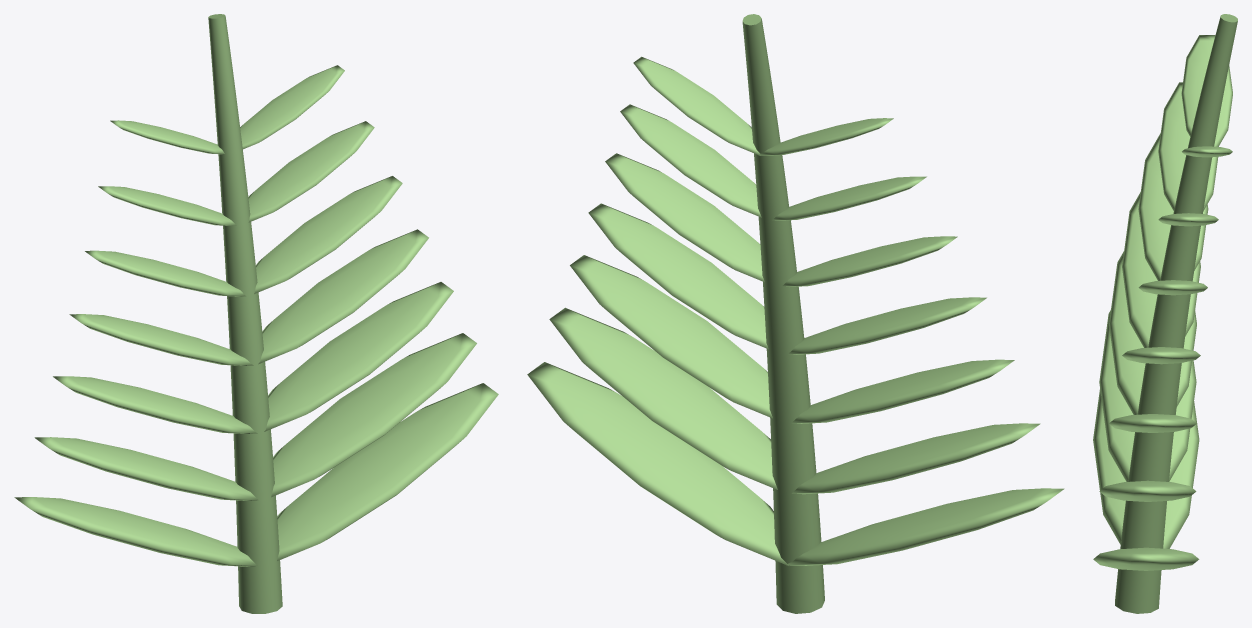
The model's file is FossilFern.fbx.
3 renders of one model, left to right at view 1: azimuth 30°, elevation 25°; view 2: azimuth 150°, elevation 25°; view 3: azimuth 270°, elevation 25°, orthographic. The views are drawn at different scales.
Parts seen in each view (by area): view 1: Handle, Leaf.001, Leaf.003, Leaf.005, Leaf.007, Leaf, Leaf.009, Leaf.002, Leaf.011, Leaf.004, Leaf.006, Leaf.013 (+3 smaller); view 2: Handle, Leaf.001, Leaf.003, Leaf.005, Leaf.007, Leaf, Leaf.009, Leaf.002, Leaf.011, Leaf.004, Leaf.006, Leaf.013 (+3 smaller); view 3: Handle, Leaf, Leaf.002, Leaf.004, Leaf.006, Leaf.008, Leaf.010, Leaf.012, Leaf.001, Leaf.003, Leaf.005, Leaf.007 (+3 smaller).
Part boxes in pixels (bbox=[...]): Handle: bbox=[208, 14, 282, 613]; Leaf.001: bbox=[277, 383, 498, 560]; Leaf.003: bbox=[271, 333, 476, 497]; Leaf.005: bbox=[264, 282, 453, 431]; Leaf.007: bbox=[258, 229, 428, 364]; Leaf: bbox=[14, 497, 257, 566]; Leaf.009: bbox=[254, 176, 402, 293]; Leaf.002: bbox=[34, 437, 258, 500]; Leaf.011: bbox=[248, 121, 374, 222]; Leaf.004: bbox=[53, 376, 257, 433]; Leaf.006: bbox=[69, 314, 253, 365]; Leaf.013: bbox=[240, 65, 344, 149]; Handle: bbox=[742, 14, 824, 613]; Leaf.001: bbox=[527, 362, 788, 565]; Leaf.003: bbox=[549, 307, 777, 489]; Leaf.005: bbox=[570, 255, 772, 418]; Leaf.007: bbox=[588, 203, 768, 349]; Leaf: bbox=[787, 488, 1064, 565]; Leaf.009: bbox=[605, 153, 764, 282]; Leaf.002: bbox=[792, 423, 1040, 494]; Leaf.011: bbox=[620, 104, 761, 217]; Leaf.004: bbox=[792, 359, 1014, 423]; Leaf.006: bbox=[788, 297, 986, 354]; Leaf.013: bbox=[633, 56, 760, 155]; Handle: bbox=[1115, 14, 1237, 613]; Leaf: bbox=[1093, 389, 1199, 548]; Leaf.002: bbox=[1099, 310, 1196, 481]; Leaf.004: bbox=[1109, 251, 1196, 414]; Leaf.006: bbox=[1122, 192, 1200, 347]; Leaf.008: bbox=[1138, 133, 1208, 280]; Leaf.010: bbox=[1158, 82, 1218, 210]; Leaf.012: bbox=[1181, 35, 1232, 146]; Leaf.001: bbox=[1093, 547, 1199, 570]; Leaf.003: bbox=[1099, 480, 1196, 501]; Leaf.005: bbox=[1109, 414, 1196, 432]; Leaf.007: bbox=[1122, 347, 1200, 364].
Size of the model in its own units: 1.23 by 1.41 by 0.3138.
